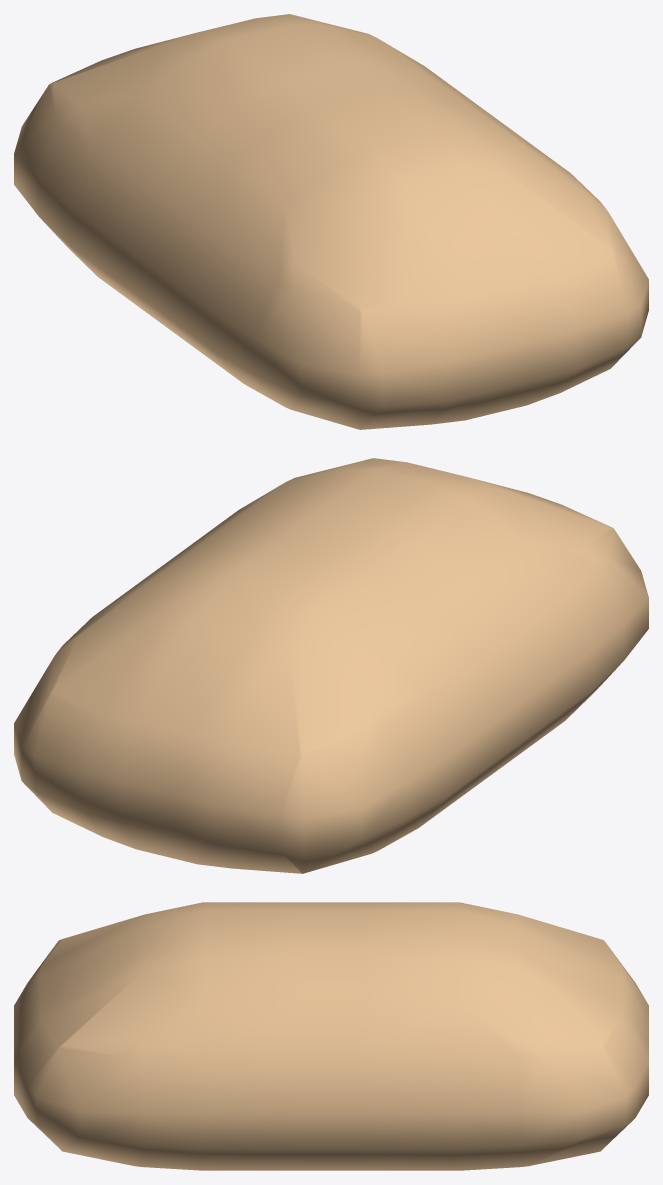
File: Bag.fbx
3 views of the same model, one above another, from view 1: azimuth 30°, elevation 25°; view 2: azimuth 150°, elevation 25°; view 3: azimuth 270°, elevation 25° (orthographic). The views are drawn at different scales.
Visible parts, largest first — view 1: Cube.604; view 2: Cube.604; view 3: Cube.604.
Part boxes in pixels (left/top/right/bottom): Cube.604: left=14, top=14, right=648, bottom=429; Cube.604: left=14, top=458, right=648, bottom=873; Cube.604: left=14, top=902, right=648, bottom=1170.
Bounding box in the file's own units: 19.8 × 11.74 × 32.79.
